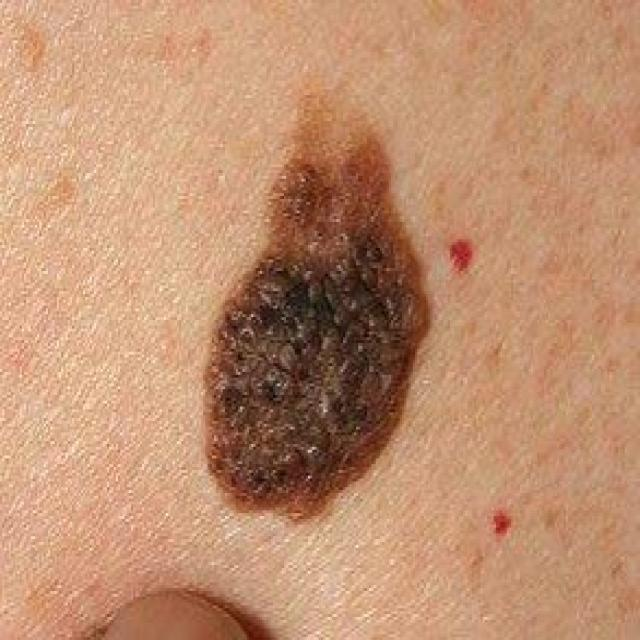Cancer: (197, 136, 424, 534)
